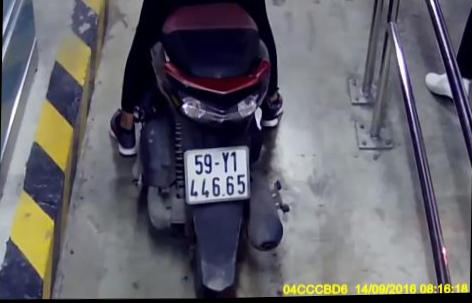LP: (181, 146, 253, 206)
